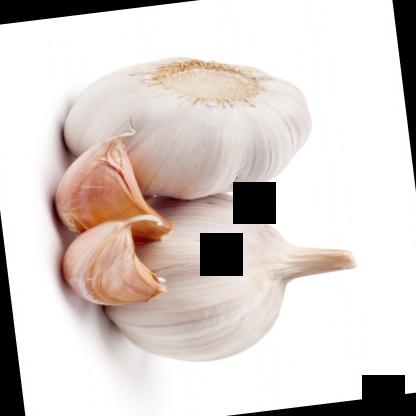garlic: (93, 172, 363, 373), (53, 43, 316, 212), (46, 132, 172, 250), (57, 214, 169, 308)
